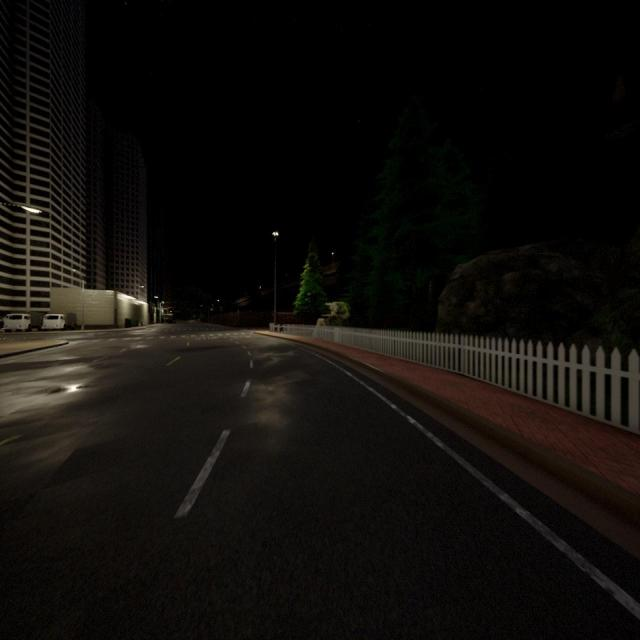Vehicle: (3, 312, 45, 332), (43, 312, 77, 331)
